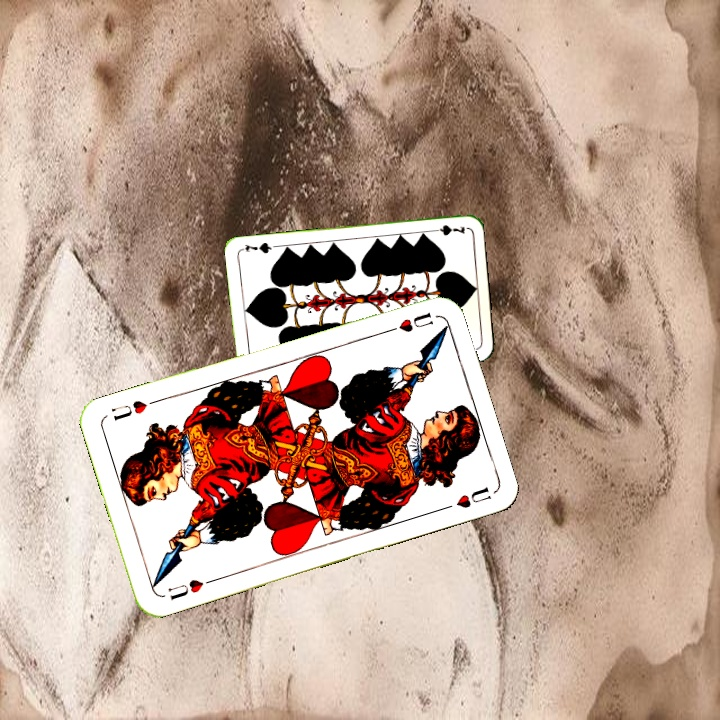G7: (427, 221, 468, 238)
HU: (380, 308, 436, 336), (163, 575, 217, 603)
